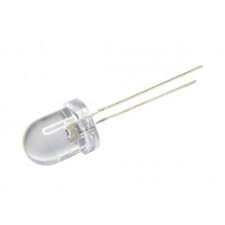LED: (11, 95, 104, 165)
